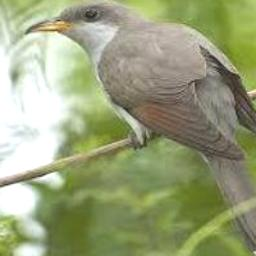Cuckoo: (27, 0, 256, 256)
